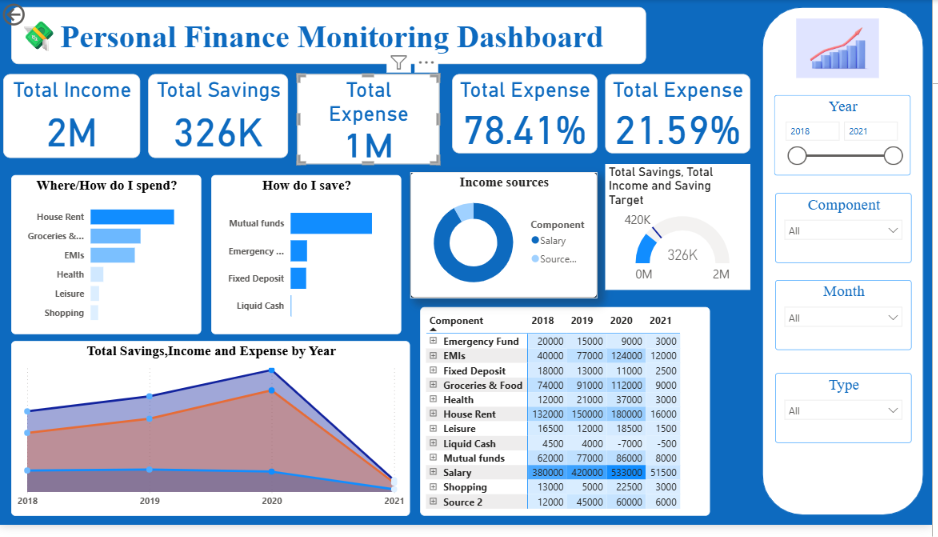

What the dashboard file says about the page in this screenshot:
{"tool":"powerbi","page":{"name":"Page 1","canvas":[1280,720],"ordinal":0},"visuals":[{"type":"textbox","box":[17.1,10,871.4,78.6],"z":0},{"type":"shape","box":[1047.1,10,221.4,697.1],"z":1000},{"type":"card","title":"Total Income","fields":{"Values":["Sum(Financedata.Value)"]},"box":[5.7,101.4,187.1,108.6],"z":2000},{"type":"card","title":"Total Savings","fields":{"Values":["Financedata.Total Savings"]},"box":[204.3,101.4,192.9,108.6],"z":3000},{"type":"card","title":"Total Expense","fields":{"Values":["Financedata.Total Expense"]},"box":[408.6,101.4,195.7,108.6],"z":4000},{"type":"card","title":"Total Expense","fields":{"Values":["Financedata.Expense%"]},"box":[621.4,101.4,198.6,108.6],"z":5000},{"type":"actionButton","box":[0,0,100,40],"z":6000},{"type":"card","title":"Total Expense","fields":{"Values":["Financedata.Savings%"]},"box":[831.4,101.4,198.6,108.6],"z":7000},{"type":"image","box":[1064.3,20,171.4,91.4],"z":8000},{"type":"slicer","title":"Year","fields":{"Values":["Financedata.Year"]},"box":[1062.9,130,187.1,110],"z":9000},{"type":"clusteredBarChart","title":"Where/How do I spend?","fields":{"Y":["Financedata.Total Expense"],"Category":["Financedata.Component"]},"box":[16.5,225,260.7,233.3],"z":10000},{"type":"clusteredBarChart","title":"How do I save?","fields":{"Y":["Financedata.Total Savings"],"Category":["Financedata.Component"]},"box":[290.9,225,260.7,233.3],"z":11000},{"type":"pivotTable","fields":{"Rows":["Financedata.Component","Financedata.Type"],"Columns":["Financedata.Year"],"Values":["Sum(Financedata.Value)"]},"box":[580.4,408.9,450.1,299.1],"z":12000},{"type":"donutChart","title":"Income sources","fields":{"Category":["Financedata.Component"],"Y":["Financedata.Total Income"]},"box":[564,225,256.6,172.9],"z":13000},{"type":"gauge","fields":{"Y":["Financedata.Total Savings"],"MaxValue":["Financedata.Total Income"],"TargetValue":["Financedata.Saving Target"]},"box":[831.6,216.8,199,181.1],"z":14000},{"type":"areaChart","title":"Total Savings,Income and Expense by Year","fields":{"Category":["Financedata.Date.Variation.Date Hierarchy.Year","Financedata.Date.Variation.Date Hierarchy.Quarter","Financedata.Date.Variation.Date Hierarchy.Month","Financedata.Date.Variation.Date Hierarchy.Day"],"Y":["Financedata.Total Savings","Financedata.Total Income","Financedata.Total Expense"]},"box":[16.5,467.9,547.5,240.1],"z":15000},{"type":"slicer","title":"Component","fields":{"Values":["Financedata.Component"]},"box":[1064.3,264.3,187.1,95.7],"z":16000},{"type":"slicer","title":"Month","fields":{"Values":["Financedata.Date.Variation.Date Hierarchy.Month"]},"box":[1064.3,384.3,187.1,95.7],"z":17000},{"type":"slicer","title":"Type","fields":{"Values":["Financedata.Type"]},"box":[1064.3,511.4,187.1,95.7],"z":18000}]}

Visuals, with their boxes in screenshot pixels (x1, y1, x2, y2), scaled from the page's 1280x720 canvas onto the 938x537 screenshot:
textbox: region(13, 7, 651, 66)
shape: region(767, 7, 930, 527)
"Total Income" card: region(4, 76, 141, 157)
"Total Savings" card: region(150, 76, 291, 157)
"Total Expense" card: region(299, 76, 443, 157)
"Total Expense" card: region(455, 76, 601, 157)
actionButton: region(0, 0, 73, 30)
"Total Expense" card: region(609, 76, 755, 157)
image: region(780, 15, 906, 83)
"Year" slicer: region(779, 97, 916, 179)
"Where/How do I spend?" clusteredBarChart: region(12, 168, 203, 342)
"How do I save?" clusteredBarChart: region(213, 168, 404, 342)
pivotTable - Financedata.Component x Financedata.Type: region(425, 305, 755, 528)
"Income sources" donutChart: region(413, 168, 601, 297)
gauge - Financedata.Total Savings x Financedata.Total Income: region(609, 162, 755, 297)
"Total Savings,Income and Expense by Year" areaChart: region(12, 349, 413, 528)
"Component" slicer: region(780, 197, 917, 268)
"Month" slicer: region(780, 287, 917, 358)
"Type" slicer: region(780, 381, 917, 453)
